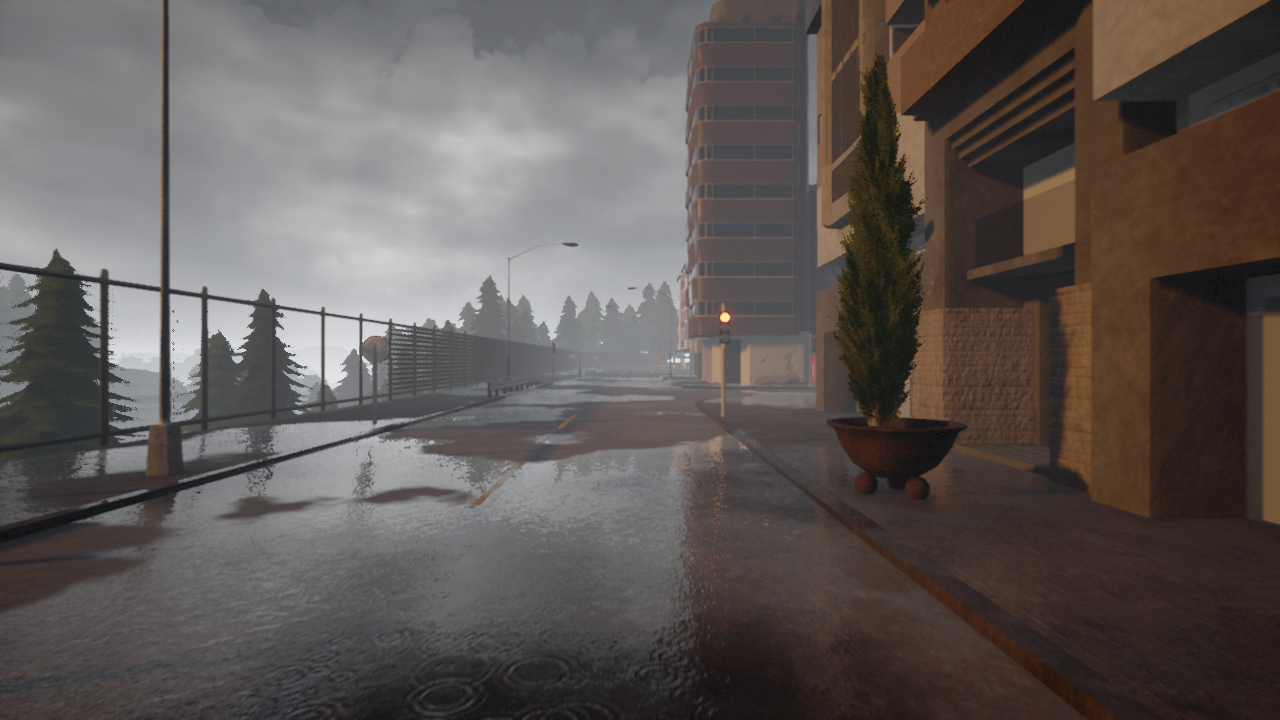red: (719, 310, 731, 344)
